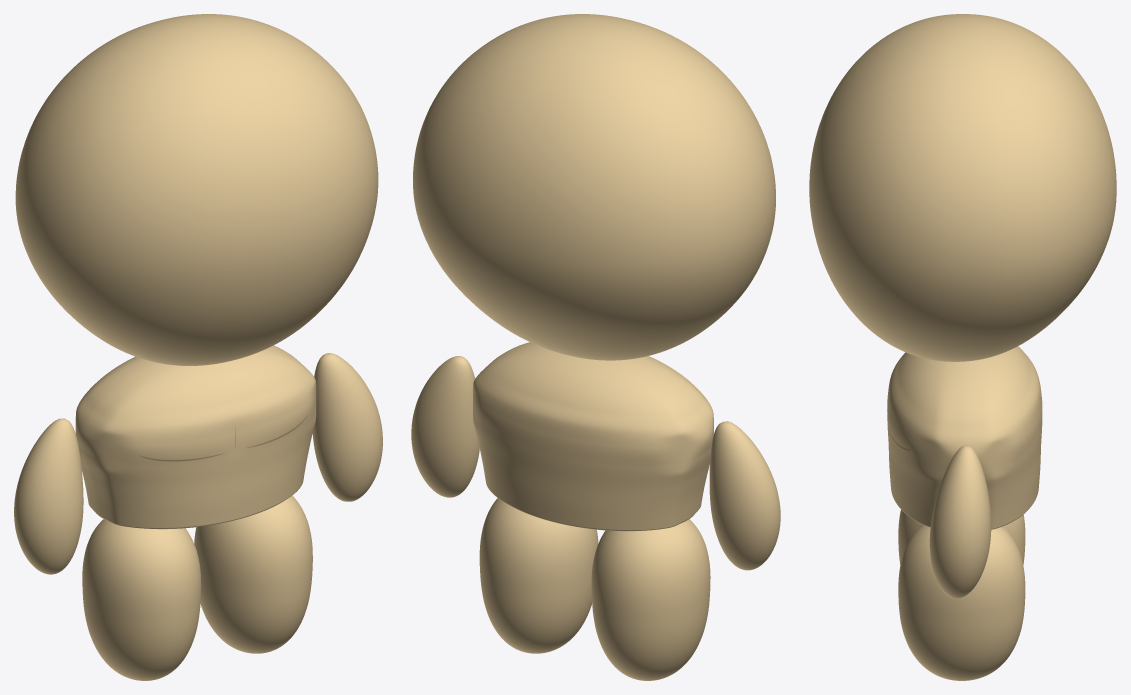
Rendered from Masculine-shirtless-base.glb.
The picture shows the model from 3 angles, left to right: view 1: azimuth 30°, elevation 25°; view 2: azimuth 150°, elevation 25°; view 3: azimuth 270°, elevation 25°; orthographic projection. The views are drawn at different scales.
Visible parts, largest first — view 1: Skin / soft oval head, Skin / rounded torso, Skin / leg blob -1, Skin / leg blob 1, Skin / swept arm -1, Skin / swept arm 1; view 2: Skin / soft oval head, Skin / rounded torso, Skin / leg blob -1, Skin / leg blob 1, Skin / swept arm -1, Skin / swept arm 1; view 3: Skin / soft oval head, Skin / rounded torso, Skin / leg blob 1, Skin / swept arm 1, Skin / leg blob -1.
Part boxes in pixels (bbox=[...]): Skin / soft oval head: bbox=[15, 14, 378, 365]; Skin / rounded torso: bbox=[75, 345, 316, 529]; Skin / leg blob -1: bbox=[82, 519, 201, 680]; Skin / leg blob 1: bbox=[194, 495, 312, 653]; Skin / swept arm -1: bbox=[14, 418, 83, 574]; Skin / swept arm 1: bbox=[312, 353, 382, 501]; Skin / soft oval head: bbox=[413, 14, 775, 360]; Skin / rounded torso: bbox=[473, 342, 713, 531]; Skin / leg blob -1: bbox=[591, 519, 710, 680]; Skin / leg blob 1: bbox=[479, 498, 598, 653]; Skin / swept arm -1: bbox=[709, 421, 780, 570]; Skin / swept arm 1: bbox=[411, 356, 479, 497]; Skin / soft oval head: bbox=[809, 14, 1116, 361]; Skin / rounded torso: bbox=[887, 346, 1042, 529]; Skin / leg blob 1: bbox=[898, 525, 1025, 680]; Skin / swept arm 1: bbox=[929, 445, 991, 598]; Skin / leg blob -1: bbox=[898, 510, 1025, 564].
Size of the model in its own units: 1.07 by 1.8 by 0.81.
